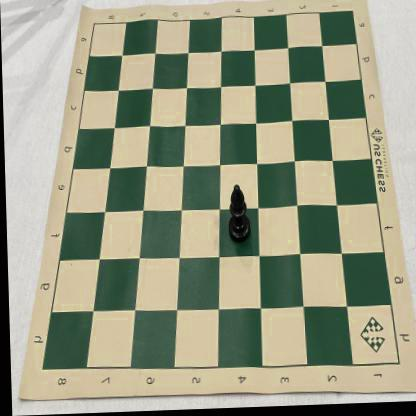black-bishop: (224, 185, 249, 246)
